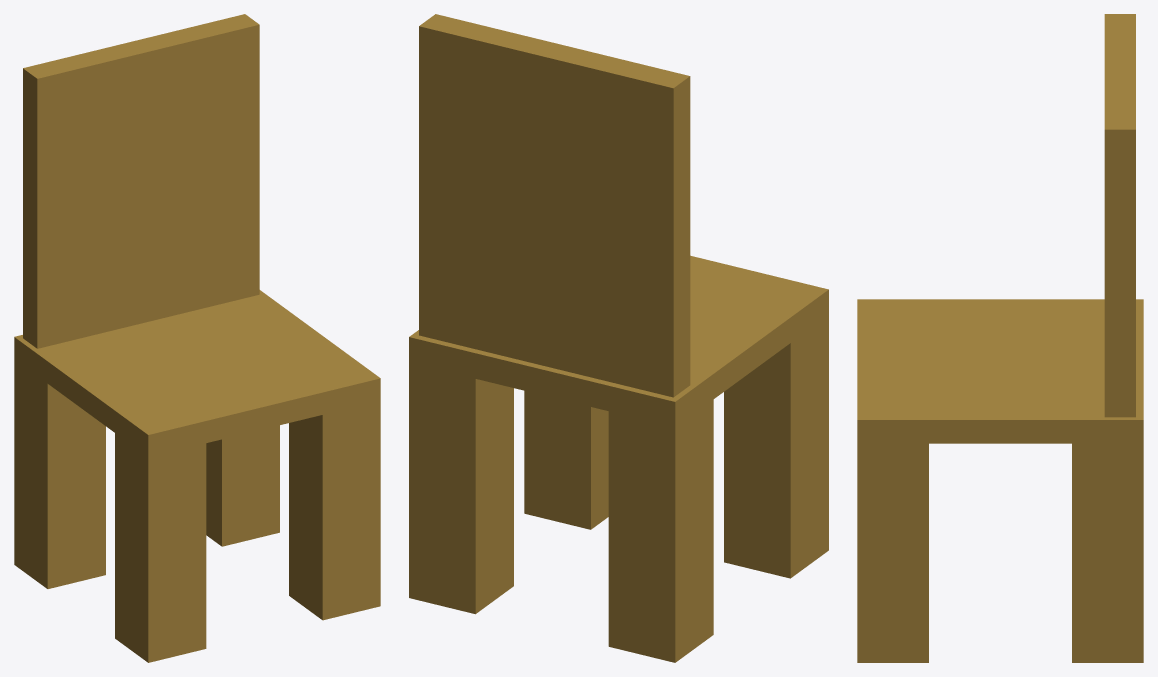
Rendered from Kursi.fbx.
3 views of the same model, side by side, from view 1: azimuth 30°, elevation 25°; view 2: azimuth 150°, elevation 25°; view 3: azimuth 270°, elevation 25° (orthographic). The views are drawn at different scales.
Visible parts, largest first — view 1: Cube.005; view 2: Cube.005; view 3: Cube.005.
Part boxes in pixels (x1,y1,x2,y2): Cube.005: (14,14,380,662); Cube.005: (409,14,828,662); Cube.005: (857,14,1143,662).
Size of the model in its own units: 200 by 409 by 200.
